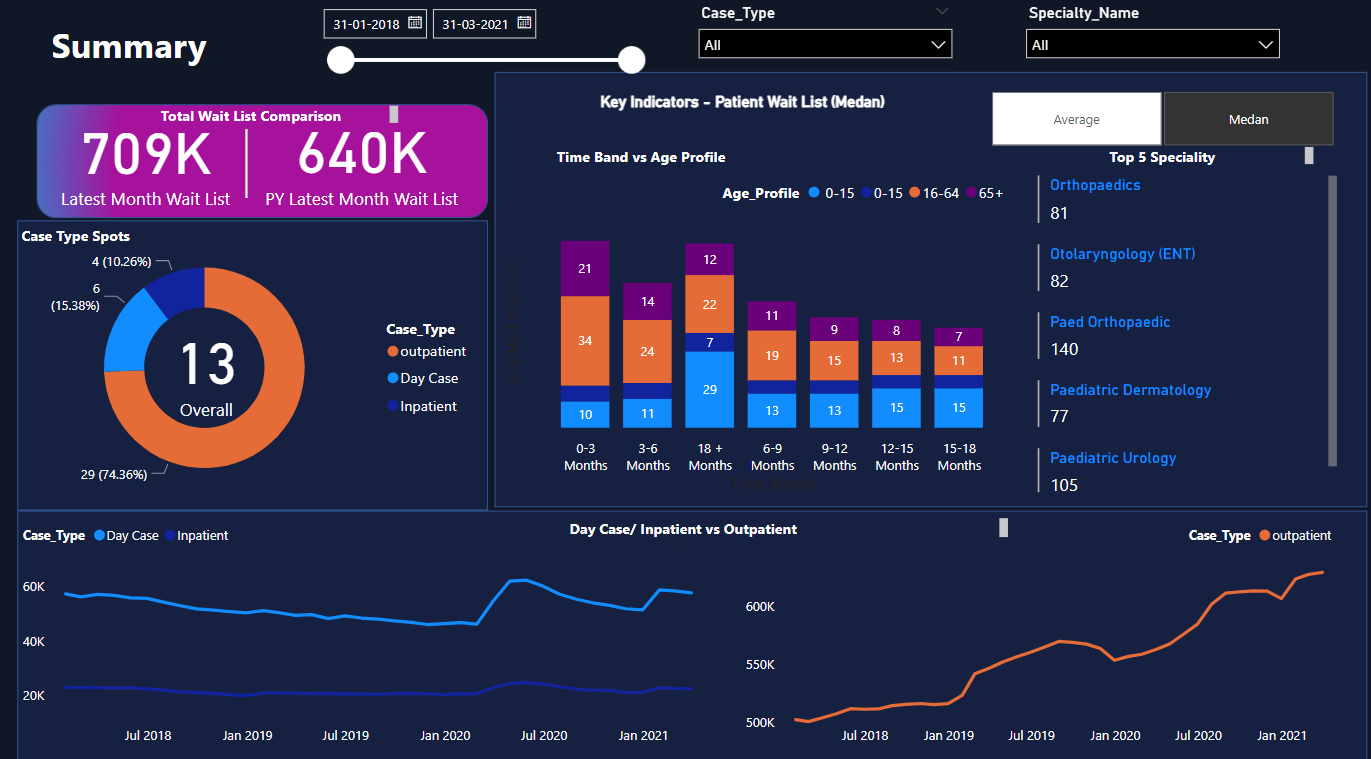

The dashboard page shown, as its layout file describes it:
{"tool":"powerbi","page":{"name":"Summary","canvas":[1280,720],"ordinal":0},"visuals":[{"type":"card","fields":{"Values":["All_data.Latest Month Wait List"]},"box":[31.4,96.5,208.7,103.8],"z":0},{"type":"card","fields":{"Values":["All_data.PY Latest Month Wait List"]},"box":[232.6,96.5,208.1,103.5],"z":1000},{"type":"slicer","fields":{"Values":["Table.Calc Method"]},"box":[896,80,368,64],"z":2000},{"type":"donutChart","fields":{"Category":["All_data.Case_Type"],"Y":["All_data.Avg/Med Wait List"]},"box":[16,208,432,272],"z":3000},{"type":"columnChart","fields":{"Y":["All_data.Avg/Med Wait List"],"Category":["All_data.Time_Bands"],"Series":["All_data.Age_Profile"]},"box":[464,160,480,304],"z":4000},{"type":"multiRowCard","fields":{"Values":["All_data.Speciality_Name","All_data.Avg/Med Wait List"]},"box":[960,160,288,304],"z":5000},{"type":"card","fields":{"Values":["All_data.NoDataLeft"]},"box":[100,561.6,474.4,91.9],"z":6000},{"type":"lineChart","fields":{"Category":["All_data.Archive_Date"],"Y":["Sum(All_data.Total)"],"Series":["All_data.Case_Type"]},"box":[16,480,656,224],"z":7000},{"type":"card","fields":{"Values":["All_data.NoDataRight"]},"box":[754.1,562.1,463.3,91.8],"z":8000},{"type":"lineChart","fields":{"Category":["All_data.Archive_Date"],"Y":["Sum(All_data.Total)"],"Series":["All_data.Case_Type"]},"box":[688,480,560,224],"z":9000},{"type":"slicer","fields":{"Values":["All_data.Archive_Date"]},"box":[288,0,320,80],"z":10000},{"type":"slicer","fields":{"Values":["All_data.Case_Type"]},"box":[640,0,256,64],"z":11000},{"type":"slicer","fields":{"Values":["All_data.Specialty_Name"]},"box":[944,0,256,64],"z":12000},{"type":"textbox","box":[0,16,240,80],"z":13000},{"type":"card","fields":{"Values":["All_data.Avg/Med Wait List"]},"box":[144,288,96,112],"z":14000},{"type":"shape","box":[159.3,121.9,139.9,63.9],"z":15000},{"type":"textbox","box":[100.1,95.3,275.1,26.5],"z":16000},{"type":"textbox","box":[488.6,133.9,216,36.2],"z":17000},{"type":"textbox","box":[336.6,479,606.8,35],"z":18000},{"type":"textbox","box":[944.6,133.9,282.3,26.5],"z":19000},{"type":"textbox","box":[15.7,207.5,120.6,31.4],"z":20000},{"type":"card","fields":{"Values":["All_data.Dynamic Title"]},"box":[464.5,73.6,453.6,48.3],"z":21000}]}

Visuals, with their boxes in screenshot pixels (x1, y1, x2, y2), scaled from the page's 1280x720 canvas onto the 1371x759 screenshot:
card - All_data.Latest Month Wait List: 34 102 257 211
card - All_data.PY Latest Month Wait List: 249 102 472 211
slicer - Table.Calc Method: 960 84 1354 152
donutChart - All_data.Case_Type x All_data.Avg/Med Wait List: 17 219 480 506
columnChart - All_data.Avg/Med Wait List x All_data.Time_Bands: 497 169 1011 489
multiRowCard - All_data.Speciality_Name x All_data.Avg/Med Wait List: 1028 169 1337 489
card - All_data.NoDataLeft: 107 592 615 689
lineChart - All_data.Archive_Date x Sum(All_data.Total): 17 506 720 742
card - All_data.NoDataRight: 808 593 1304 689
lineChart - All_data.Archive_Date x Sum(All_data.Total): 737 506 1337 742
slicer - All_data.Archive_Date: 308 0 651 84
slicer - All_data.Case_Type: 686 0 960 67
slicer - All_data.Specialty_Name: 1011 0 1285 67
textbox: 0 17 257 101
card - All_data.Avg/Med Wait List: 154 304 257 422
shape: 171 129 320 196
textbox: 107 100 402 128
textbox: 523 141 755 179
textbox: 361 505 1010 542
textbox: 1012 141 1314 169
textbox: 17 219 146 252
card - All_data.Dynamic Title: 498 78 983 129
